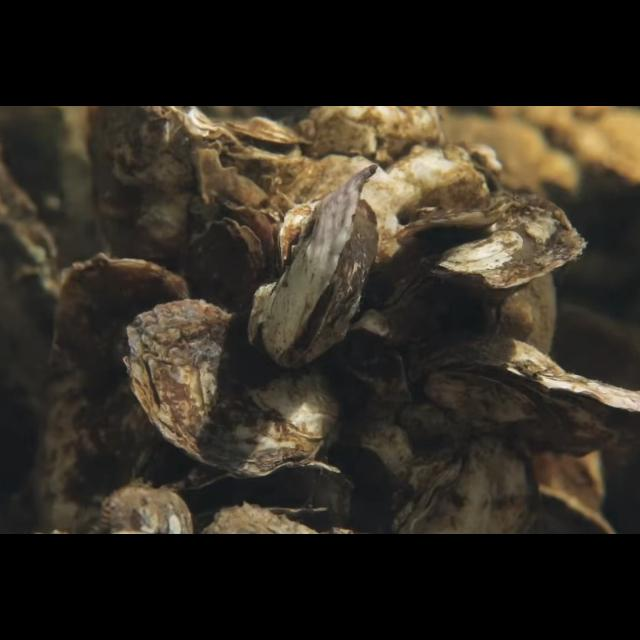Oyster-Closed: (40, 253, 190, 534), (380, 190, 588, 328), (406, 337, 640, 459), (245, 164, 379, 370), (388, 435, 540, 535)
Oyster-Indeterminate: (123, 298, 344, 480), (91, 106, 223, 274), (184, 218, 264, 314)
Oyster-Open: (174, 460, 342, 516)
